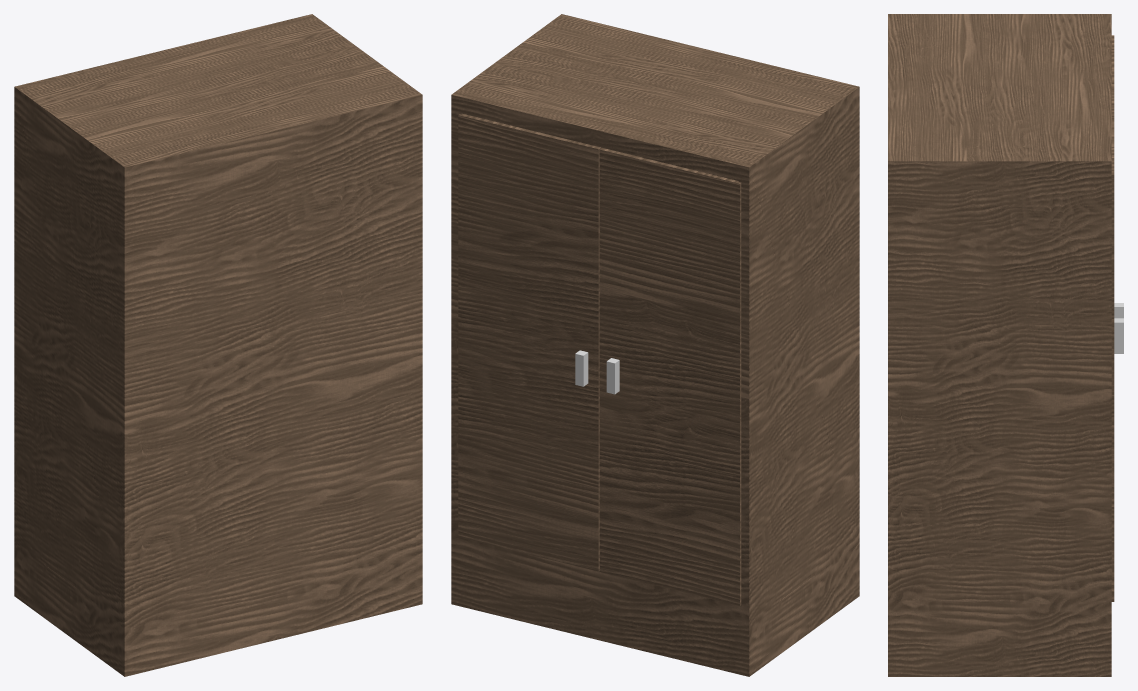
The model's file is wardrobe.glb.
3 views of the same model, side by side, from view 1: azimuth 30°, elevation 25°; view 2: azimuth 150°, elevation 25°; view 3: azimuth 270°, elevation 25° (orthographic).
Parts seen in each view (by area): view 1: Body; view 2: Body, RDoor, LDoor; view 3: Body, LDoor.
Part boxes in pixels (<box>): Body: <box>14,14,422,676</box>; Body: <box>451,14,859,676</box>; RDoor: <box>599,148,741,605</box>; LDoor: <box>458,114,601,571</box>; Body: <box>888,14,1111,676</box>; LDoor: <box>1111,105,1114,601</box>.
Size of the model in its own units: 1.34 by 2.19 by 0.9071.
1 material, 1 textured.
